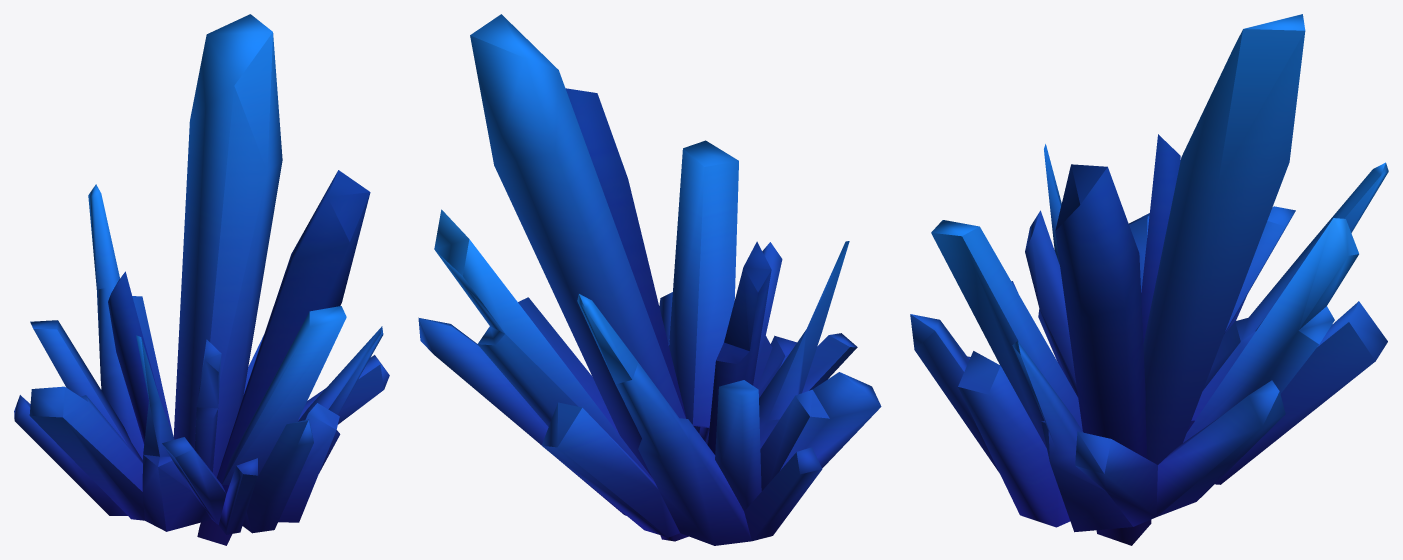
File: ZLP_Crystalk_A_4.FBX
The picture shows the model from 3 angles, left to right: view 1: azimuth 30°, elevation 25°; view 2: azimuth 150°, elevation 25°; view 3: azimuth 270°, elevation 25°; orthographic projection. The views are drawn at different scales.
Parts seen in each view (by area): view 1: ZLP_Crystalk_A_4; view 2: ZLP_Crystalk_A_4; view 3: ZLP_Crystalk_A_4.
Boxes of the visible parts, x1,y1,x2,y2 form: ZLP_Crystalk_A_4: (14,14,389,545); ZLP_Crystalk_A_4: (418,14,881,545); ZLP_Crystalk_A_4: (910,14,1388,545).
Size of the model in its own units: 286 by 359 by 271.
